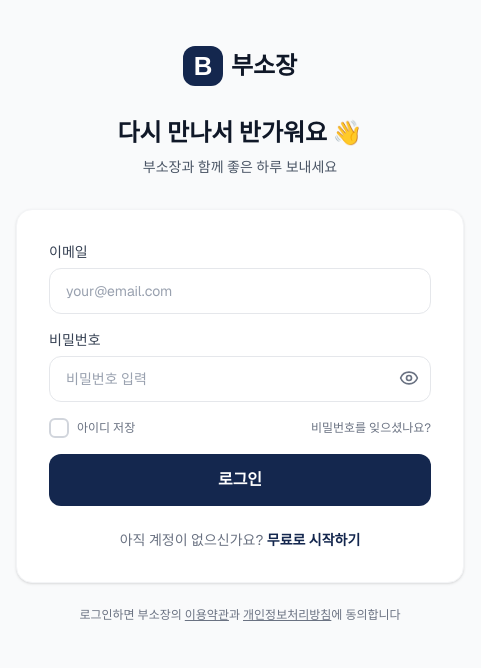
Test: LoginForm — 로그인 실패 까닭별 안내 (#46) › 비밀번호가 틀리면 예전 문구
The image size is (481, 668).
Type "name@example.com" into the field labelled "이메일" at [240, 290], box [49,268,431,314]
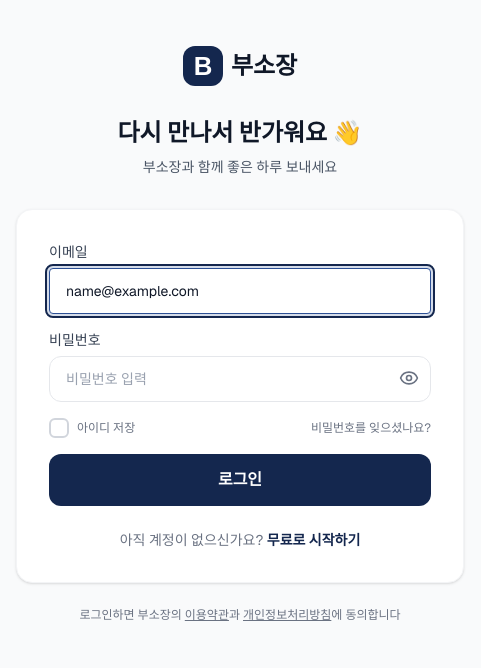
Type "abcd1234!" into the password field labelled "비밀번호" at [240, 378], box [49,356,431,402]
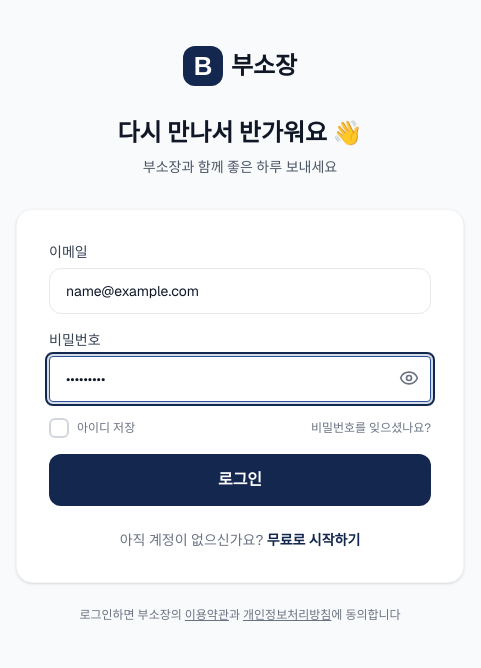
Click the button "로그인" at [240, 480], box [49,454,431,506]
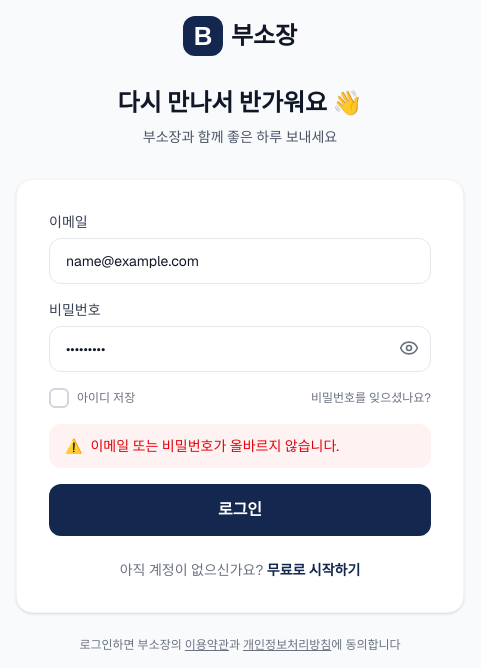
Expected: the text "이메일 또는 비밀번호가 올바르지 않습니다." is shown, [90,436,339,454]
